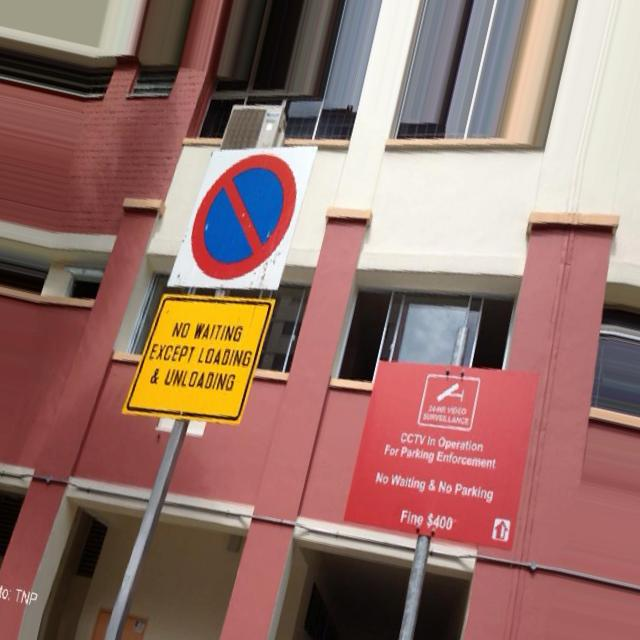forb_stopping: (191, 156, 297, 282)
